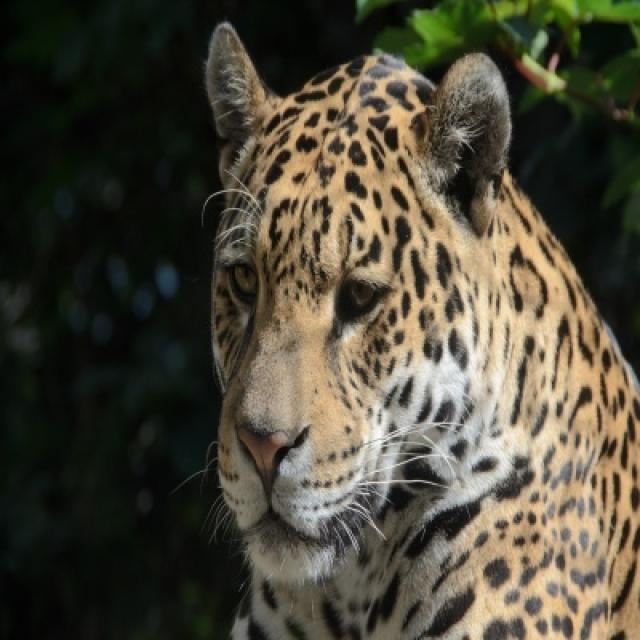Jaguar: (202, 22, 638, 638)
